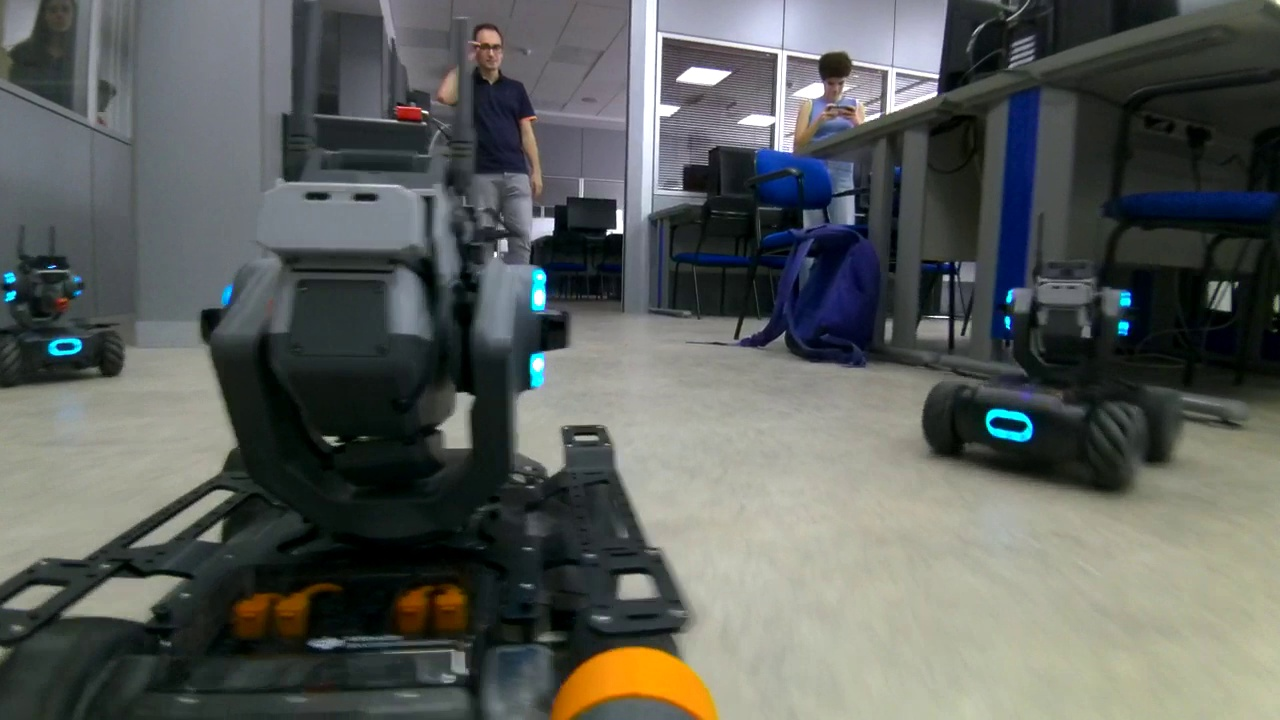robot: (1, 3, 722, 720), (903, 210, 1196, 492), (2, 223, 132, 389)
